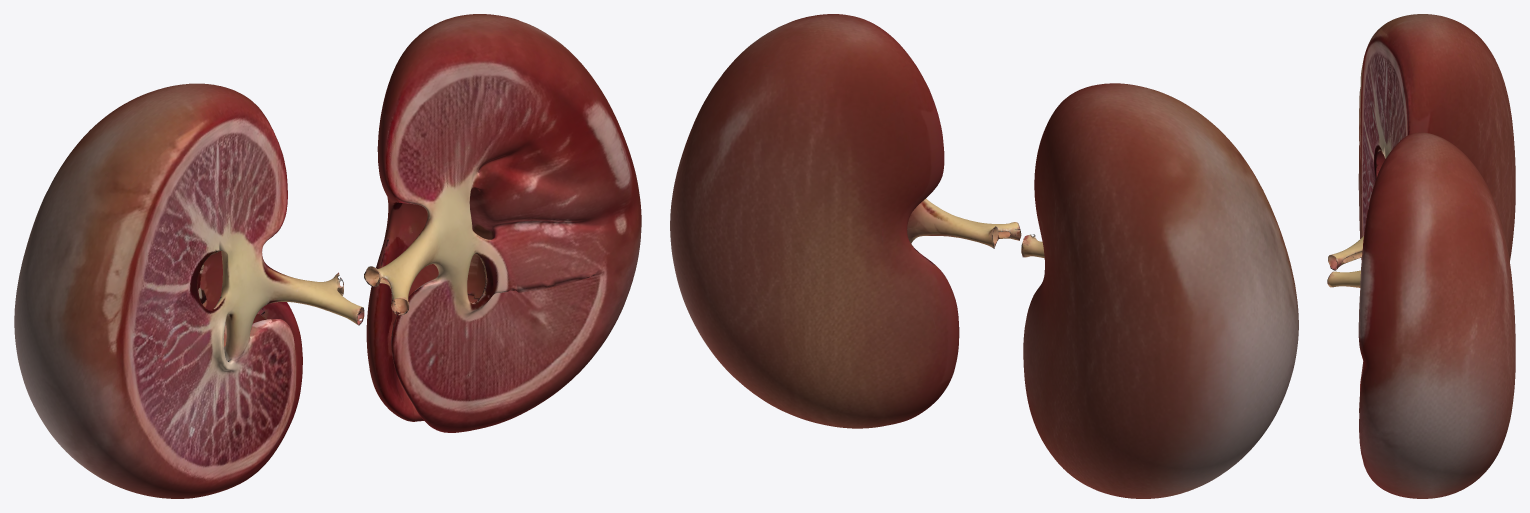
Rendered from vet_v2_organ_horse_kidneys.glb.
The picture shows the model from 3 angles, left to right: view 1: azimuth 30°, elevation 25°; view 2: azimuth 150°, elevation 25°; view 3: azimuth 270°, elevation 25°; orthographic projection. The views are drawn at different scales.
Parts seen in each view (by area): view 1: model; view 2: model; view 3: model.
Part boxes in pixels (x1,y1,x2,y2): model: (14, 14, 641, 498); model: (670, 14, 1298, 498); model: (1327, 14, 1515, 498).
Size of the model in its own units: 1.9 by 1.21 by 0.6015.
Materials: 1 (1 with a texture image).
